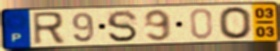0: (188, 8, 214, 41)
9: (142, 8, 172, 42), (71, 12, 96, 43)
O: (217, 6, 254, 41)
R: (31, 10, 67, 47)
S: (105, 9, 140, 44)
